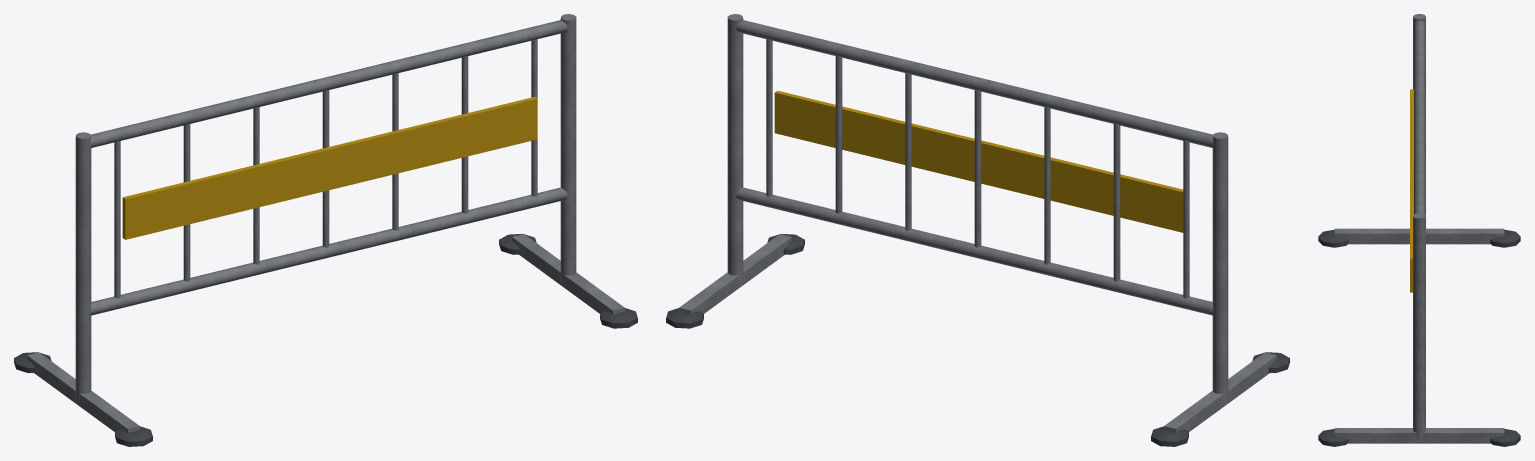
The model's file is barrier.obj.
3 views of the same model, side by side, from view 1: azimuth 30°, elevation 25°; view 2: azimuth 150°, elevation 25°; view 3: azimuth 270°, elevation 25° (orthographic). The views are drawn at different scales.
Visible parts, largest first — view 1: barrier; view 2: barrier; view 3: barrier.
Boxes of the visible parts, <box> form: barrier: <box>14,14,637,446</box>; barrier: <box>666,14,1289,446</box>; barrier: <box>1318,14,1520,446</box>.
Bounding box in the file's own units: 2.14 × 1.05 × 0.86.
